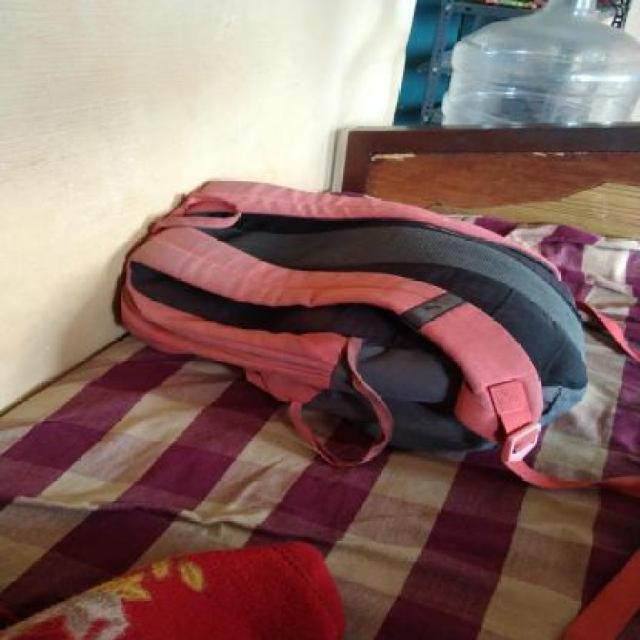backpack: (106, 175, 592, 494)
